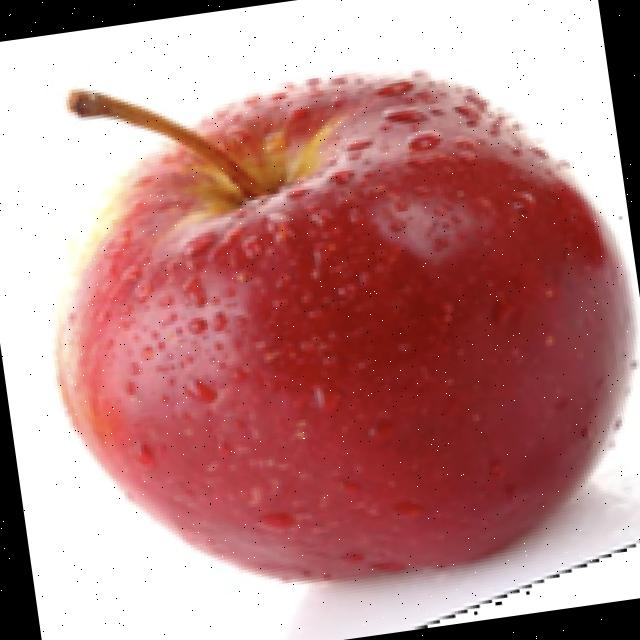apple: (49, 66, 640, 640)
